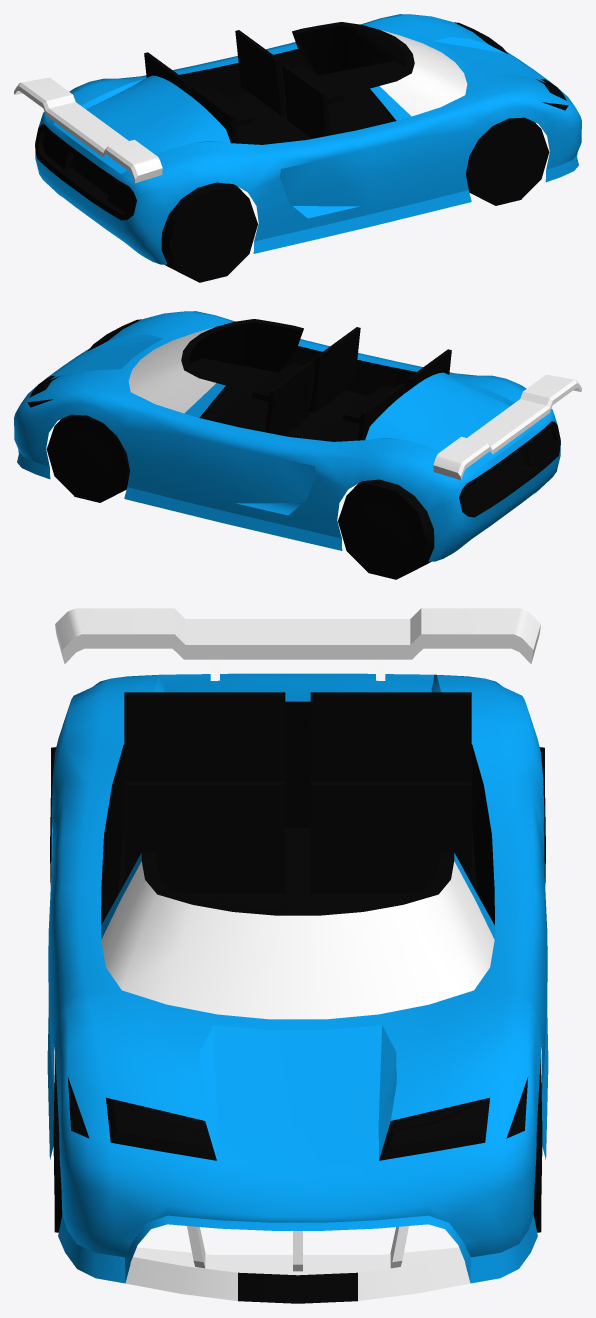
The model's file is SuperCar_open.fbx.
3 views of the same model, one above another, from view 1: azimuth 30°, elevation 25°; view 2: azimuth 150°, elevation 25°; view 3: azimuth 270°, elevation 25° (orthographic). The views are drawn at different scales.
Parts seen in each view (by area): view 1: SuperCar_open; view 2: SuperCar_open; view 3: SuperCar_open.
Part boxes in pixels (box(x1,y1,x2,y2)): SuperCar_open: box(14, 14, 581, 282); SuperCar_open: box(14, 311, 581, 579); SuperCar_open: box(47, 608, 548, 1303).
Size of the model in its own units: 20.06 by 5.75 by 9.08.
